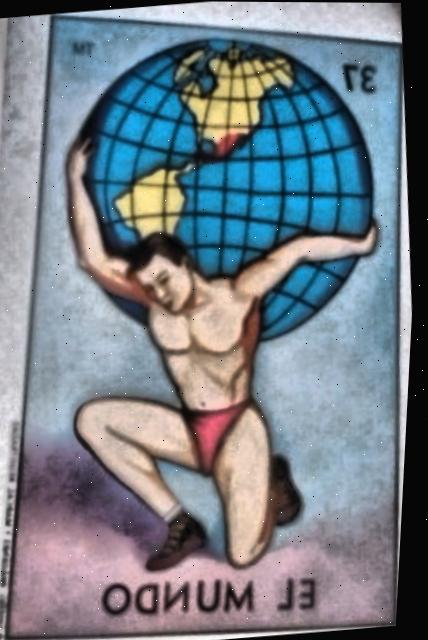El Mundo: (21, 21, 401, 634)
